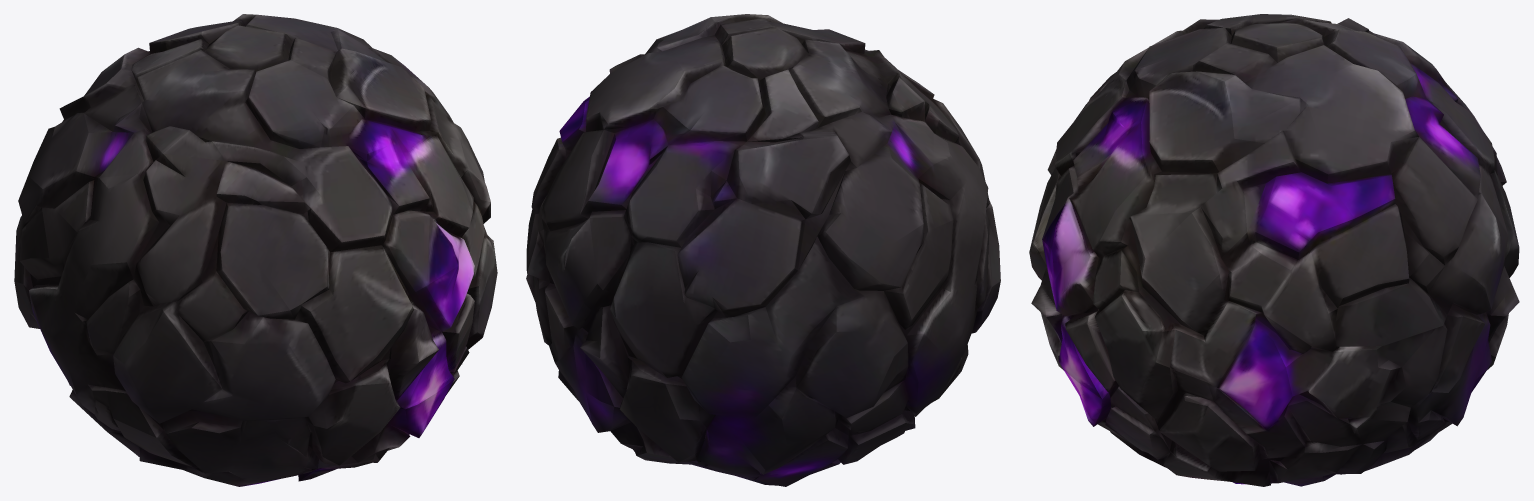
The model's file is m2MiniPlanetoid.glb.
The picture shows the model from 3 angles, left to right: view 1: azimuth 30°, elevation 25°; view 2: azimuth 150°, elevation 25°; view 3: azimuth 270°, elevation 25°; orthographic projection. The views are drawn at different scales.
Visible parts, largest first — view 1: model; view 2: model; view 3: model.
Boxes of the visible parts, x1,y1,x2,y2 form: model: (14, 14, 497, 486); model: (526, 14, 1000, 486); model: (1029, 14, 1519, 486).
Bounding box in the file's own units: 1.85 × 1.86 × 1.9.
Materials: 1 (1 with a texture image).
